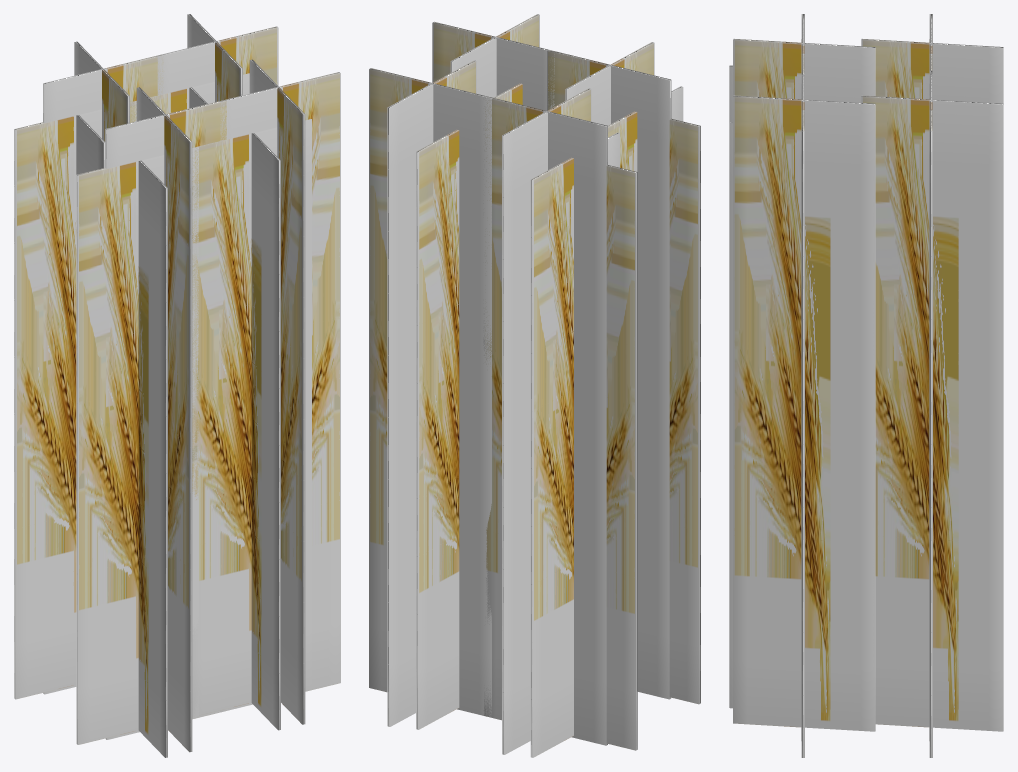
Rendered from wheat.fbx.
3 views of the same model, side by side, from view 1: azimuth 30°, elevation 25°; view 2: azimuth 150°, elevation 25°; view 3: azimuth 270°, elevation 25° (orthographic). The views are drawn at different scales.
Visible parts, largest first — view 1: wheat; view 2: wheat; view 3: wheat.
Part boxes in pixels (<box>): wheat: <box>14,14,340,757</box>; wheat: <box>369,14,700,757</box>; wheat: <box>729,14,1003,757</box>.
Bounding box in the file's own units: 59.7 × 132 × 52.56.
